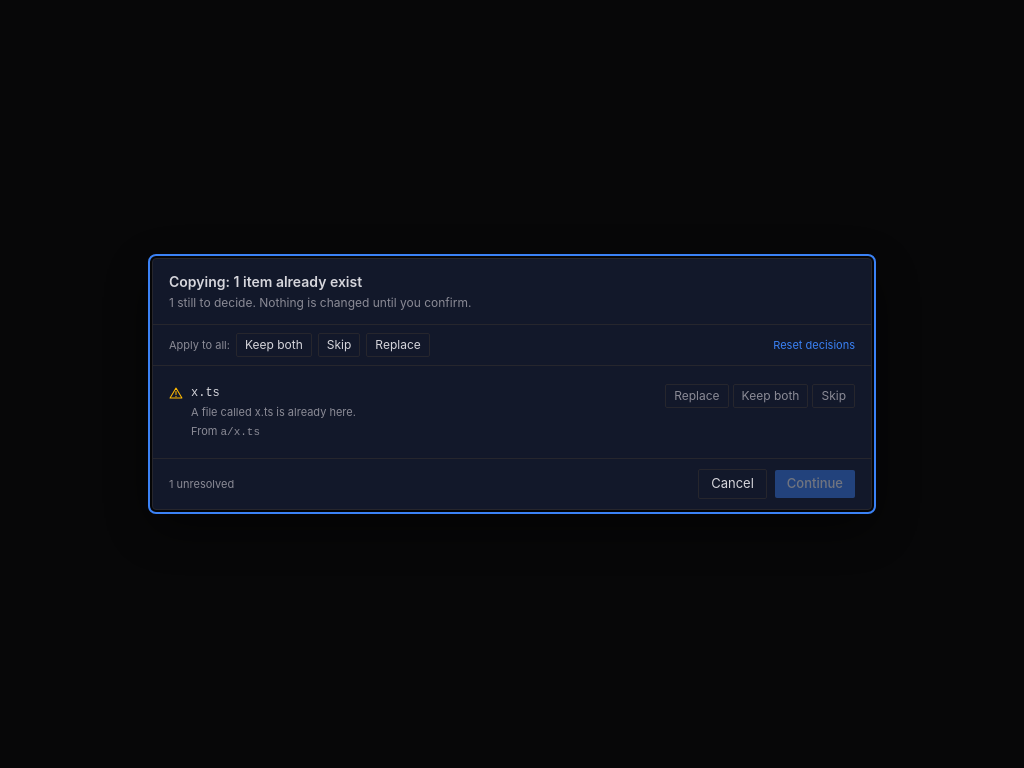
Test case: the choices offered › warns that a replace stages before deleting
Click the button with aria-label "Replace x.ts" at (697,396), box [665, 384, 729, 408]
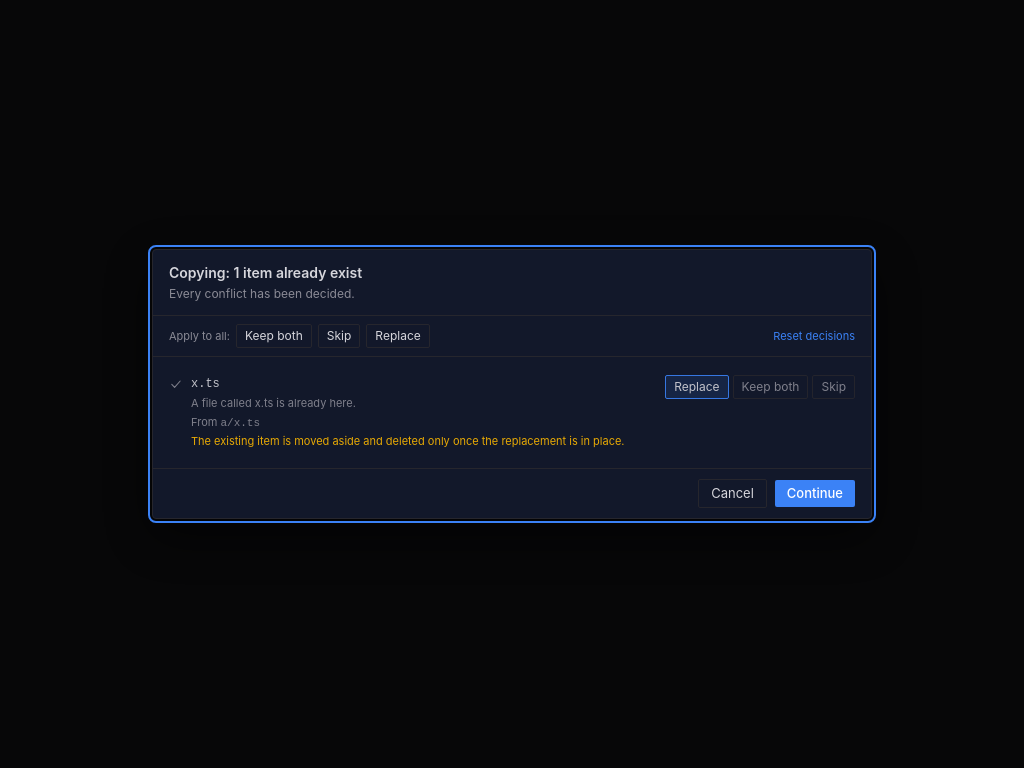
Result: the text "moved aside and deleted only once" is shown at [191, 434, 624, 448]
